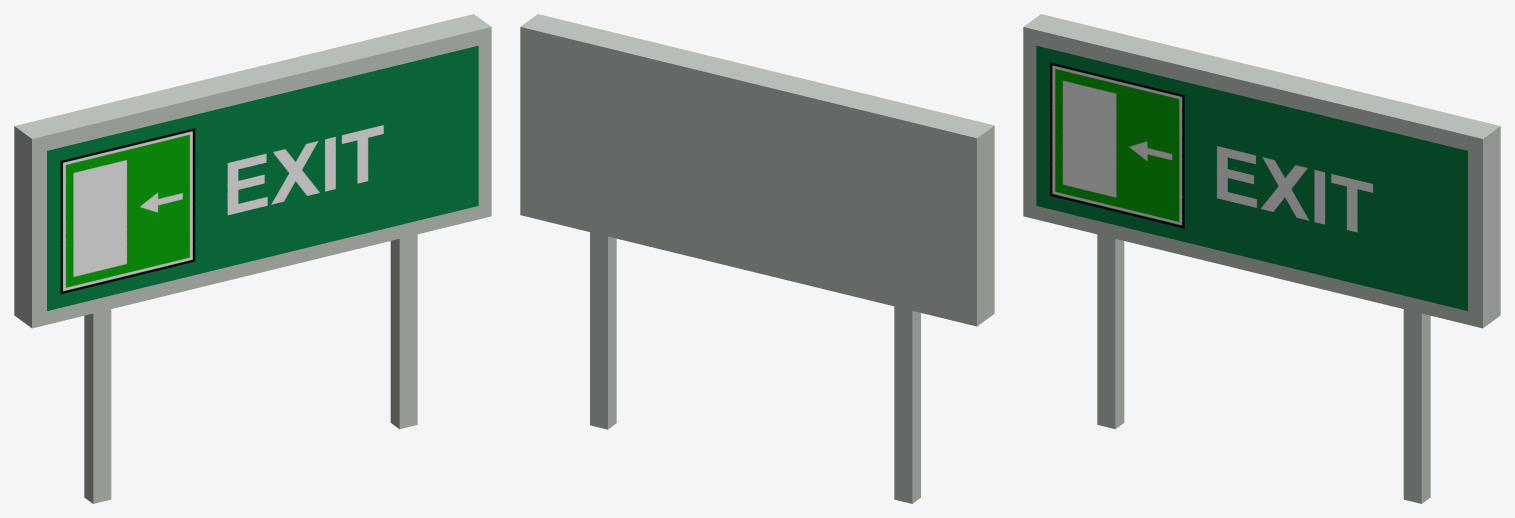
The model's file is Sign.obj.
The picture shows the model from 3 angles, left to right: view 1: azimuth 30°, elevation 25°; view 2: azimuth 150°, elevation 25°; view 3: azimuth 330°, elevation 25°; orthographic projection.
Bounding box in the file's own units: 3.3 × 2.65 × 0.232.
